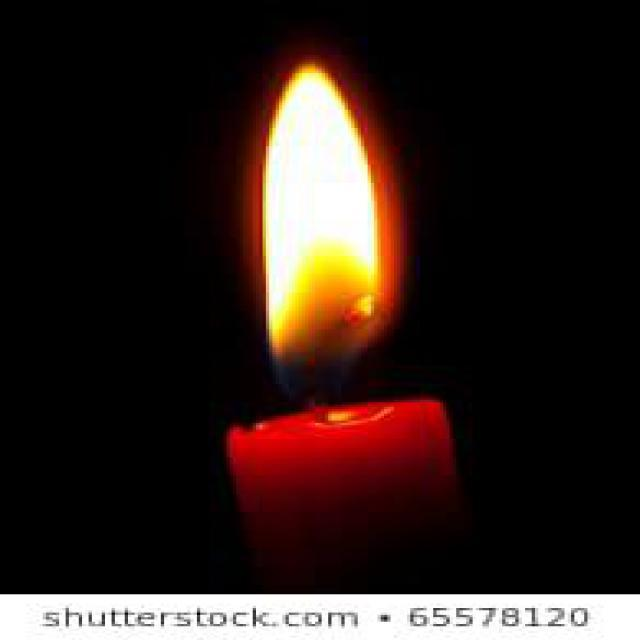Fire: (244, 57, 399, 386)
